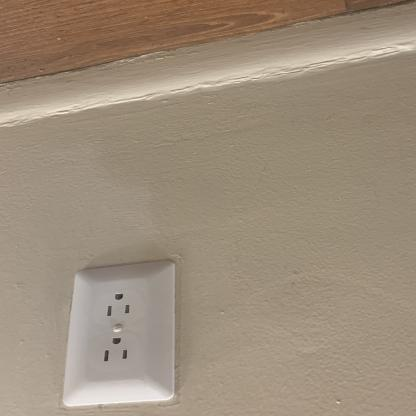OUTLET: (62, 258, 180, 410)
